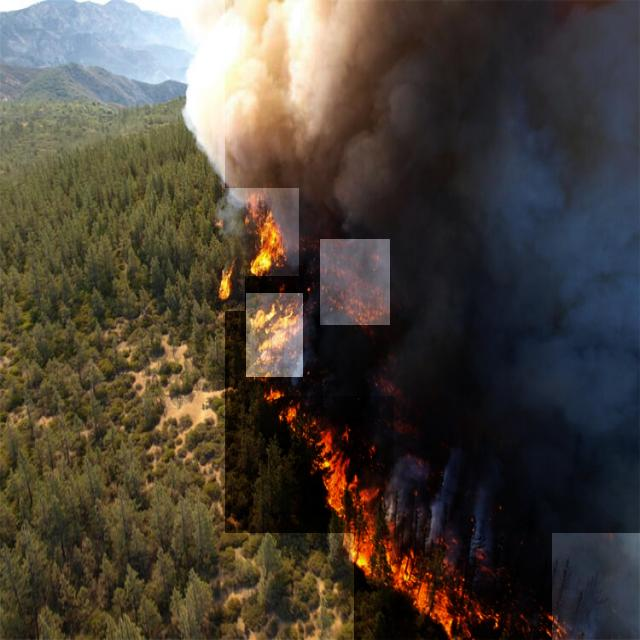Fire: (354, 520, 552, 640), (281, 396, 394, 515), (221, 188, 299, 276), (320, 239, 390, 325), (246, 293, 303, 377), (210, 269, 245, 311)
Smoke: (225, 0, 640, 533)
